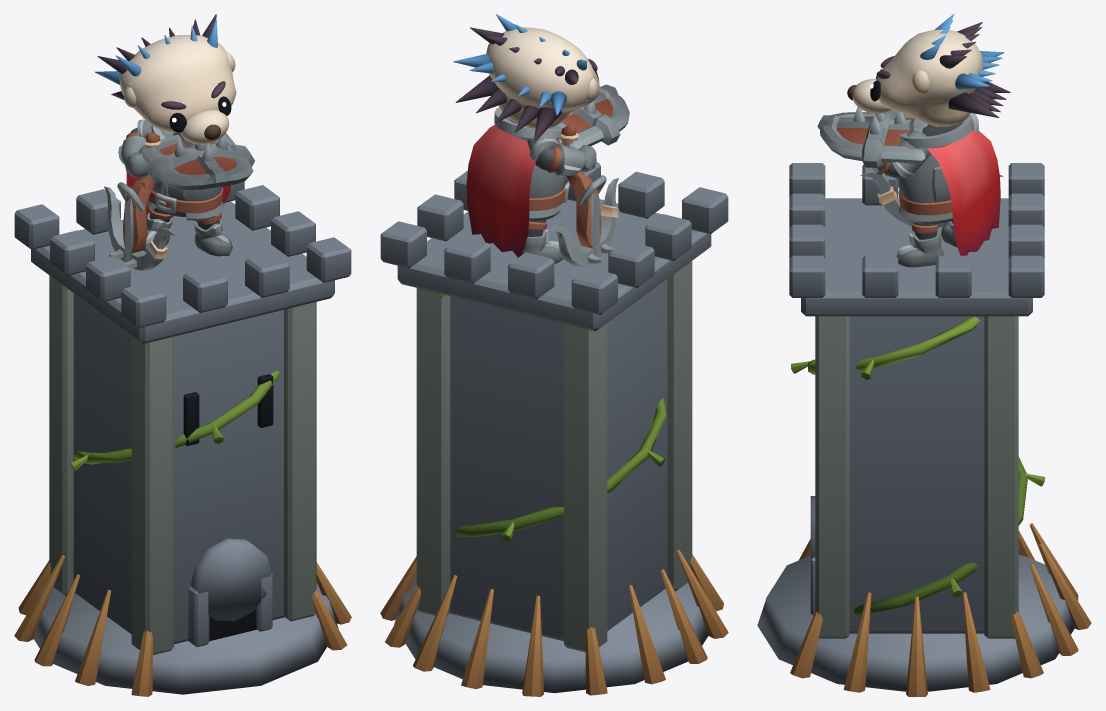
Rendered from tower_hedgehog_t2.glb.
3 views of the same model, side by side, from view 1: azimuth 30°, elevation 25°; view 2: azimuth 150°, elevation 25°; view 3: azimuth 270°, elevation 25° (orthographic). The views are drawn at different scales.
Visible parts, largest first — view 1: CustomTowerBase_hedgehog_t2, HhHead, Spike_Shield, crossbow_2handed, Knight_Body, Knight_ArmRight, Knight_LegLeft, HhMuzzle, Knight_LegRight; view 2: CustomTowerBase_hedgehog_t2, Knight_Cape, HhHead, crossbow_2handed, Spike_Shield, Knight_Body, Knight_ArmRight, Knight_LegRight; view 3: CustomTowerBase_hedgehog_t2, HhHead, Knight_Cape, Spike_Shield, Knight_Body, Knight_LegLeft, Knight_ArmLeft, crossbow_2handed, HhMuzzle, QSpike.021.
Part boxes in pixels (box(x1,y1,x2,y2)): CustomTowerBase_hedgehog_t2: box(14, 181, 351, 696); HhHead: box(119, 34, 236, 132); Spike_Shield: box(138, 132, 254, 189); crossbow_2handed: box(104, 132, 175, 270); Knight_Body: box(147, 126, 224, 220); Knight_ArmRight: box(118, 119, 173, 177); Knight_LegLeft: box(194, 212, 232, 256); HhMuzzle: box(180, 110, 229, 144); Knight_LegRight: box(143, 208, 173, 252); CustomTowerBase_hedgehog_t2: box(380, 162, 728, 696); Knight_Cape: box(466, 124, 536, 257); HhHead: box(486, 27, 600, 128); crossbow_2handed: box(548, 125, 618, 266); Spike_Shield: box(550, 84, 629, 149); Knight_Body: box(494, 107, 569, 221); Knight_ArmRight: box(527, 128, 596, 175); Knight_LegRight: box(517, 220, 563, 263); CustomTowerBase_hedgehog_t2: box(757, 163, 1091, 696); HhHead: box(876, 29, 982, 126); Knight_Cape: box(927, 130, 1000, 255); Spike_Shield: box(817, 106, 927, 167); Knight_Body: box(898, 114, 973, 224); Knight_LegLeft: box(896, 222, 944, 267); Knight_ArmLeft: box(871, 130, 930, 178); crossbow_2handed: box(860, 171, 1003, 227); HhMuzzle: box(852, 79, 891, 113); QSpike.021: box(948, 92, 999, 117).
Size of the model in its own units: 1.12 by 2.13 by 1.07.
Materials: 6 (4 with a texture image).
